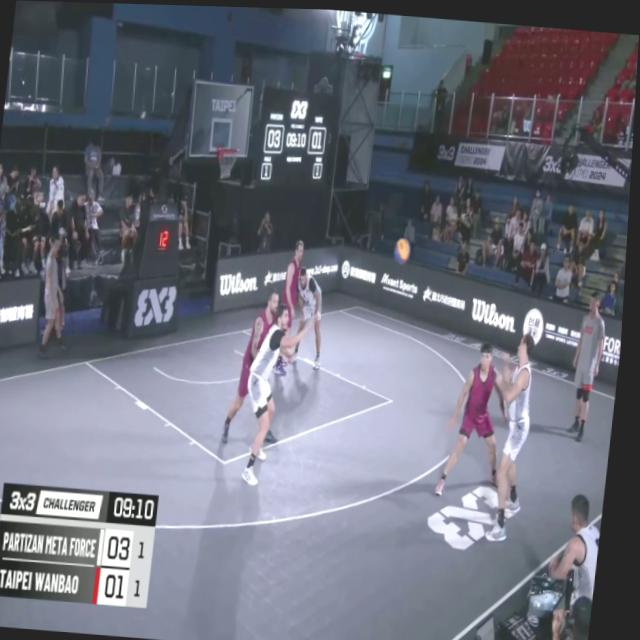ball: (394, 232, 416, 268)
hoop: (215, 143, 242, 180)
player: (478, 327, 546, 543), (442, 336, 521, 504), (241, 299, 304, 495), (224, 283, 292, 454), (293, 263, 334, 366), (279, 240, 309, 342)
